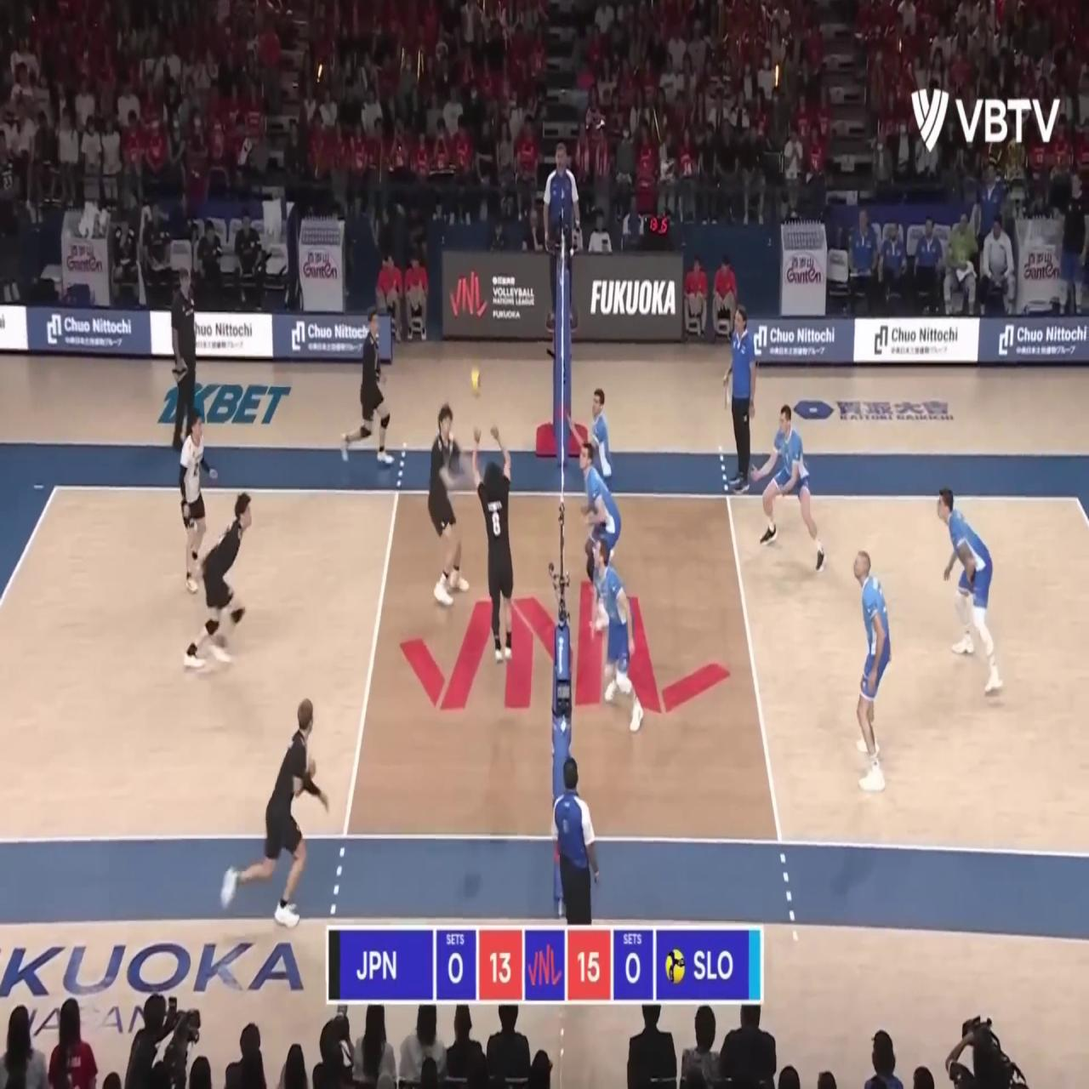ball: (470, 366, 482, 394)
